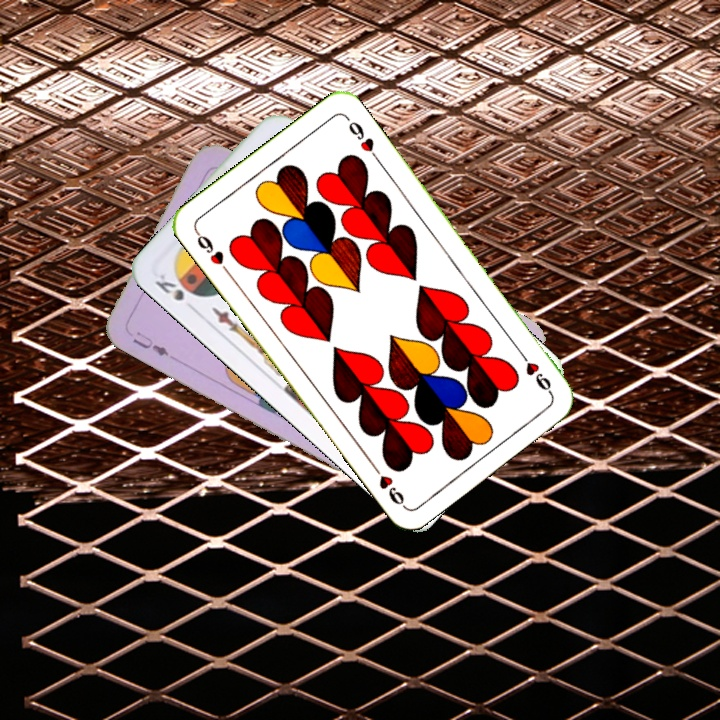EU: (128, 327, 171, 359)
H9: (191, 227, 233, 277), (514, 346, 554, 397)
SK: (151, 269, 187, 304)
